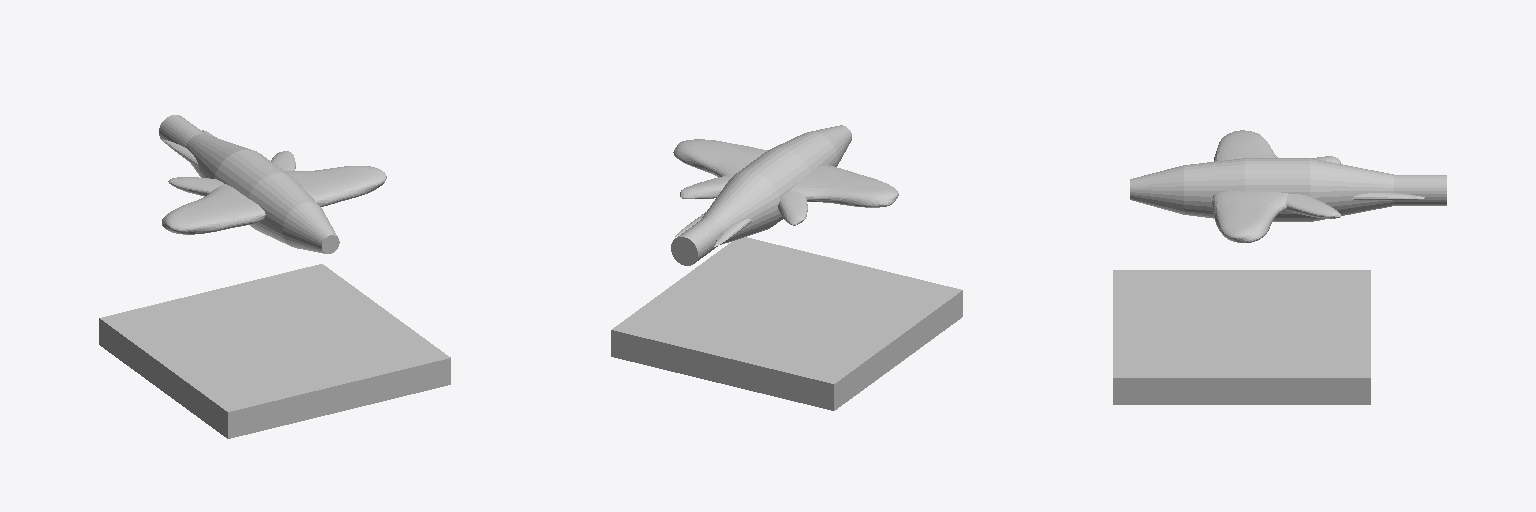
File: SimpleBird_temp.obj
3 views of the same model, side by side, from view 1: azimuth 30°, elevation 25°; view 2: azimuth 150°, elevation 25°; view 3: azimuth 270°, elevation 25° (orthographic).
Parts seen in each view (by area): view 1: Reference_Plane, body_Cylinder, inner-wing.001_Cube.000, inner-wing_Cube.003, middle-wing.001_Cube.001; view 2: Reference_Plane, body_Cylinder, inner-wing.001_Cube.000, inner-wing_Cube.003, middle-wing.001_Cube.001, middle-wing_Cube.004; view 3: Reference_Plane, body_Cylinder, inner-wing_Cube.003, inner-wing.001_Cube.000, middle-wing_Cube.004.
Part boxes in pixels (left/top/right/bottom): Reference_Plane: left=99, top=264, right=450, bottom=438; body_Cylinder: left=159, top=115, right=339, bottom=253; inner-wing.001_Cube.000: left=162, top=184, right=265, bottom=234; inner-wing_Cube.003: left=285, top=166, right=386, bottom=206; middle-wing.001_Cube.001: left=168, top=177, right=223, bottom=196; Reference_Plane: left=611, top=237, right=962, bottom=410; body_Cylinder: left=671, top=125, right=851, bottom=265; inner-wing.001_Cube.000: left=790, top=164, right=898, bottom=207; inner-wing_Cube.003: left=673, top=139, right=767, bottom=176; middle-wing.001_Cube.001: left=778, top=191, right=807, bottom=225; middle-wing_Cube.004: left=680, top=176, right=732, bottom=198; Reference_Plane: left=1113, top=270, right=1370, bottom=404; body_Cylinder: left=1130, top=158, right=1446, bottom=221; inner-wing_Cube.003: left=1212, top=191, right=1288, bottom=242; inner-wing.001_Cube.000: left=1214, top=130, right=1277, bottom=161; middle-wing_Cube.004: left=1286, top=194, right=1340, bottom=218.
Bounding box in the file's own units: 8 × 6.5 × 10.38.